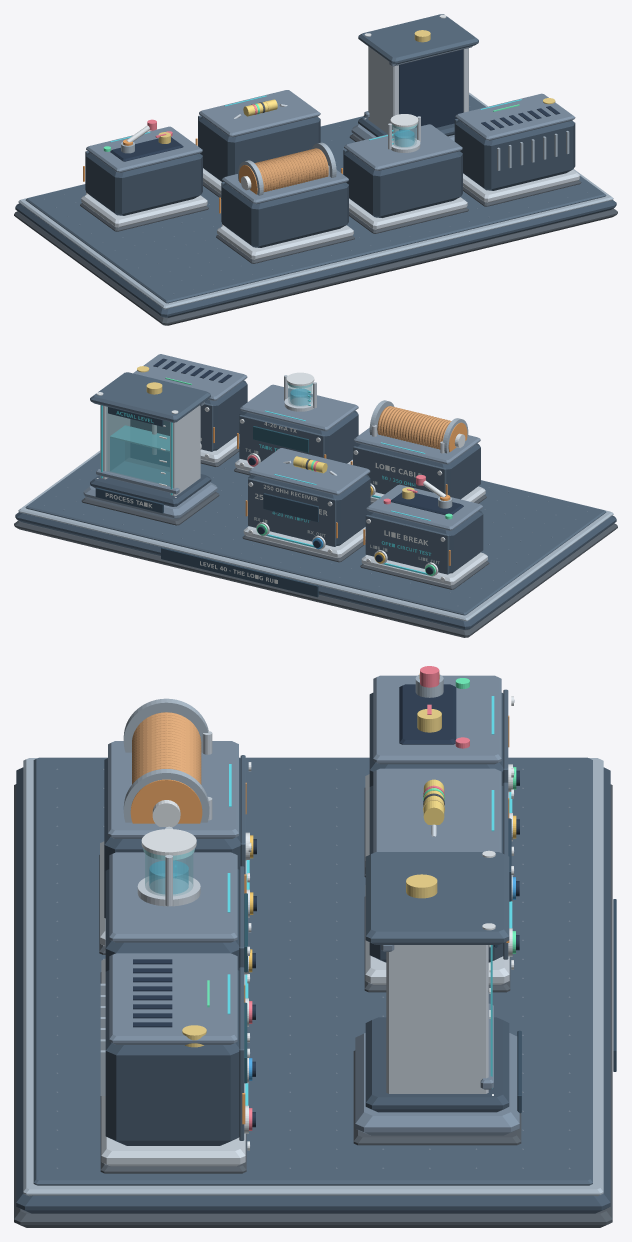
Rendered from Level40_Complete_Display_Assembly.fbx.
The picture shows the model from 3 angles, top to bottom: view 1: azimuth 30°, elevation 25°; view 2: azimuth 150°, elevation 25°; view 3: azimuth 270°, elevation 25°; orthographic projection. The views are drawn at different scales.
Parts seen in each view (by area): view 1: 00_Board_Optional_Display__BOARD_Pegboard_Mat, 00_Board_Optional_Display__BOARD_Graphite_Workbench, 03_50_350Ohm_Cable__CABLE_Chassis, 02_4to20mA_Transmitter__TX_Chassis, 01_12V_Supply__PSU_Chassis, 04_Line_Break_Switch__BREAK_Chassis, 00_Board_Optional_Display__BOARD_Black_RubberUnderlay, 05_250Ohm_Receiver__RX_Chassis, 06_Process_Tank__TANK_Back_Interior, 00_Board_Optional_Display__BOARD_Steel_Frame, 06_Process_Tank__TANK_Industrial_TopCover, 05_250Ohm_Receiver__RX_Top_Lid (+16 smaller); view 2: 00_Board_Optional_Display__BOARD_Pegboard_Mat, 00_Board_Optional_Display__BOARD_Graphite_Workbench, 00_Board_Optional_Display__BOARD_Black_RubberUnderlay, 00_Board_Optional_Display__BOARD_Steel_Frame, 06_Process_Tank__TANK_Transparent_Front_Wall, 06_Process_Tank__TANK_Industrial_TopCover, 05_250Ohm_Receiver__RX_Front_Console_Plate, 04_Line_Break_Switch__BREAK_Front_Console_Plate, 05_250Ohm_Receiver__RX_Top_Lid, 02_4to20mA_Transmitter__TX_Top_Lid, 03_50_350Ohm_Cable__CABLE_Front_Console_Plate, 06_Process_Tank__TANK_GuidePillar_-0.91 (+29 smaller); view 3: 00_Board_Optional_Display__BOARD_Pegboard_Mat, 00_Board_Optional_Display__BOARD_Graphite_Workbench, 00_Board_Optional_Display__BOARD_Steel_Frame, 06_Process_Tank__TANK_GuidePillar_+0.91, 01_12V_Supply__PSU_Chassis, 06_Process_Tank__TANK_Industrial_TopCover, 00_Board_Optional_Display__BOARD_Black_RubberUnderlay, 01_12V_Supply__PSU_Top_Lid, 05_250Ohm_Receiver__RX_Top_Lid, 02_4to20mA_Transmitter__TX_Top_Lid, 04_Line_Break_Switch__BREAK_Top_Lid, 03_50_350Ohm_Cable__CABLE_Top_Lid (+20 smaller).
Boxes of the visible parts, x1=… form: 00_Board_Optional_Display__BOARD_Pegboard_Mat: x1=25, y1=94, x2=606, y2=303; 00_Board_Optional_Display__BOARD_Graphite_Workbench: x1=15, y1=200, x2=616, y2=317; 03_50_350Ohm_Cable__CABLE_Chassis: x1=222, y1=182, x2=348, y2=247; 02_4to20mA_Transmitter__TX_Chassis: x1=344, y1=150, x2=462, y2=217; 01_12V_Supply__PSU_Chassis: x1=455, y1=120, x2=575, y2=190; 04_Line_Break_Switch__BREAK_Chassis: x1=86, y1=152, x2=202, y2=215; 00_Board_Optional_Display__BOARD_Black_RubberUnderlay: x1=14, y1=208, x2=617, y2=325; 05_250Ohm_Receiver__RX_Chassis: x1=198, y1=116, x2=320, y2=181; 06_Process_Tank__TANK_Back_Interior: x1=399, y1=49, x2=463, y2=130; 00_Board_Optional_Display__BOARD_Steel_Frame: x1=18, y1=92, x2=613, y2=309; 06_Process_Tank__TANK_Industrial_TopCover: x1=358, y1=14, x2=478, y2=64; 05_250Ohm_Receiver__RX_Top_Lid: x1=199, y1=90, x2=320, y2=137; 00_Board_Optional_Display__BOARD_Pegboard_Mat: x1=25, y1=452, x2=606, y2=615; 00_Board_Optional_Display__BOARD_Graphite_Workbench: x1=15, y1=512, x2=616, y2=629; 00_Board_Optional_Display__BOARD_Black_RubberUnderlay: x1=14, y1=520, x2=617, y2=637; 00_Board_Optional_Display__BOARD_Steel_Frame: x1=18, y1=450, x2=613, y2=621; 06_Process_Tank__TANK_Transparent_Front_Wall: x1=106, y1=406, x2=169, y2=486; 06_Process_Tank__TANK_Industrial_TopCover: x1=90, y1=372, x2=210, y2=422; 05_250Ohm_Receiver__RX_Front_Console_Plate: x1=248, y1=478, x2=336, y2=546; 04_Line_Break_Switch__BREAK_Front_Console_Plate: x1=365, y1=515, x2=449, y2=574; 05_250Ohm_Receiver__RX_Top_Lid: x1=248, y1=448, x2=370, y2=495; 02_4to20mA_Transmitter__TX_Top_Lid: x1=240, y1=384, x2=358, y2=431; 03_50_350Ohm_Cable__CABLE_Front_Console_Plate: x1=353, y1=446, x2=446, y2=494; 06_Process_Tank__TANK_GuidePillar_-0.91: x1=170, y1=405, x2=200, y2=496; 00_Board_Optional_Display__BOARD_Pegboard_Mat: x1=33, y1=757, x2=592, y2=1185; 00_Board_Optional_Display__BOARD_Graphite_Workbench: x1=16, y1=767, x2=610, y2=1213; 00_Board_Optional_Display__BOARD_Steel_Frame: x1=23, y1=758, x2=603, y2=1196; 06_Process_Tank__TANK_GuidePillar_+0.91: x1=386, y1=945, x2=488, y2=1093; 01_12V_Supply__PSU_Chassis: x1=105, y1=970, x2=239, y2=1145; 06_Process_Tank__TANK_Industrial_TopCover: x1=365, y1=852, x2=509, y2=944; 00_Board_Optional_Display__BOARD_Black_RubberUnderlay: x1=14, y1=784, x2=612, y2=1227; 01_12V_Supply__PSU_Top_Lid: x1=109, y1=953, x2=237, y2=1044; 05_250Ohm_Receiver__RX_Top_Lid: x1=373, y1=768, x2=501, y2=852; 02_4to20mA_Transmitter__TX_Top_Lid: x1=109, y1=852, x2=237, y2=942; 04_Line_Break_Switch__BREAK_Top_Lid: x1=373, y1=675, x2=501, y2=764; 03_50_350Ohm_Cable__CABLE_Top_Lid: x1=108, y1=741, x2=238, y2=838.
Size of the model in its own units: 11.9 by 3.27 by 6.91.
